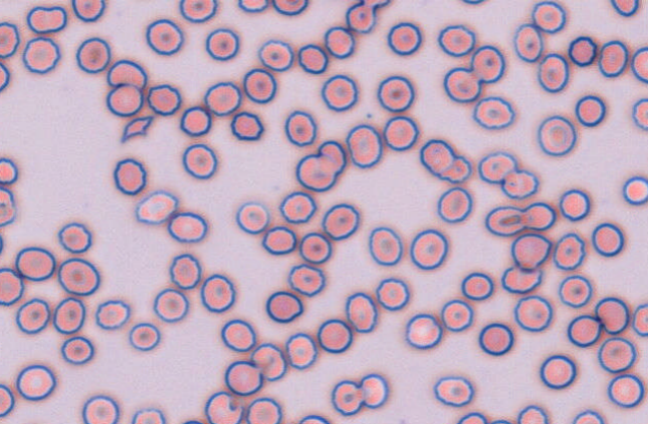RBC: (57, 257, 100, 296), (345, 123, 382, 168), (409, 228, 448, 270), (537, 115, 576, 156), (295, 153, 337, 191), (510, 232, 551, 270), (134, 189, 178, 224), (15, 364, 56, 400), (14, 246, 56, 281), (22, 36, 60, 74), (321, 202, 359, 240), (376, 74, 414, 112), (224, 359, 263, 396), (597, 336, 636, 373), (513, 295, 552, 332), (472, 95, 514, 129), (145, 18, 183, 55), (320, 74, 358, 111), (250, 342, 286, 381), (200, 273, 235, 313), (419, 138, 455, 176), (443, 66, 481, 102), (470, 44, 505, 83), (344, 291, 377, 332), (436, 186, 472, 223), (75, 36, 111, 73), (405, 313, 442, 349), (539, 353, 576, 389), (382, 115, 419, 151), (105, 82, 143, 117), (594, 296, 629, 334), (112, 157, 147, 195), (203, 81, 241, 116), (368, 226, 402, 265), (477, 150, 517, 183), (181, 143, 217, 179), (15, 297, 50, 334), (607, 373, 644, 408), (433, 375, 473, 407), (167, 211, 207, 243), (537, 52, 569, 92), (484, 205, 525, 236), (316, 318, 352, 353), (168, 252, 202, 289), (278, 190, 316, 223), (553, 232, 586, 270), (265, 290, 303, 323), (287, 263, 325, 296), (52, 296, 85, 334), (437, 23, 475, 56), (204, 391, 243, 423), (106, 59, 147, 89), (153, 287, 188, 322), (478, 322, 514, 356), (220, 318, 256, 352), (242, 67, 276, 103), (284, 332, 317, 369), (284, 109, 317, 146), (500, 265, 542, 294), (500, 168, 539, 199), (387, 21, 422, 55), (26, 5, 67, 34), (330, 379, 363, 415), (513, 23, 543, 62), (558, 274, 592, 308), (566, 314, 601, 347), (531, 0, 566, 33), (591, 222, 624, 257), (235, 201, 270, 234), (258, 38, 293, 71), (598, 39, 628, 77), (375, 277, 409, 310), (205, 27, 239, 60), (146, 83, 181, 115), (57, 221, 92, 253), (81, 394, 119, 423), (298, 231, 331, 264), (94, 299, 130, 329), (440, 299, 473, 331), (558, 188, 590, 221), (323, 25, 355, 58), (261, 225, 296, 255), (317, 139, 346, 175), (574, 94, 605, 127), (521, 201, 556, 230), (359, 373, 388, 408), (245, 396, 282, 423), (179, 105, 211, 136), (230, 110, 263, 140), (60, 335, 94, 364), (297, 43, 328, 74), (439, 154, 472, 183), (460, 271, 493, 300), (0, 267, 24, 306), (345, 2, 375, 33), (567, 35, 597, 66), (128, 322, 160, 351), (178, 0, 218, 22), (622, 175, 647, 205), (71, 0, 105, 22), (0, 21, 20, 58), (630, 45, 647, 83), (0, 186, 16, 226), (516, 404, 548, 423), (130, 407, 166, 423), (271, 0, 308, 15), (631, 302, 647, 336), (0, 156, 18, 185), (0, 383, 15, 417), (571, 409, 604, 424), (632, 97, 647, 130), (609, 0, 639, 16), (455, 411, 487, 424), (237, 0, 268, 12), (0, 61, 10, 92), (297, 414, 330, 423), (362, 0, 390, 9), (179, 418, 206, 424), (488, 418, 514, 424), (460, 0, 489, 5), (0, 232, 4, 257)
Schistocyte: (123, 117, 153, 143)
